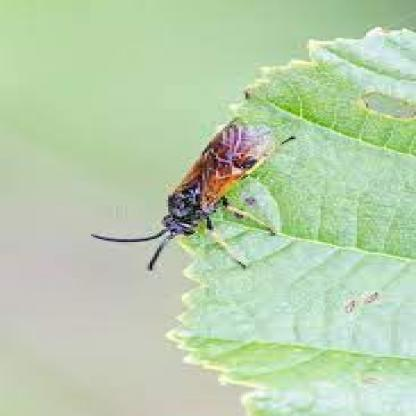sawfly: (86, 112, 290, 278)
